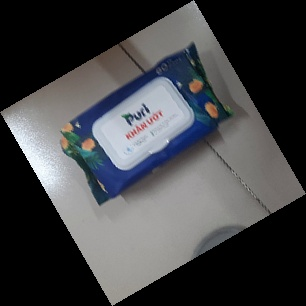Puri Xanh: (57, 42, 236, 206)
